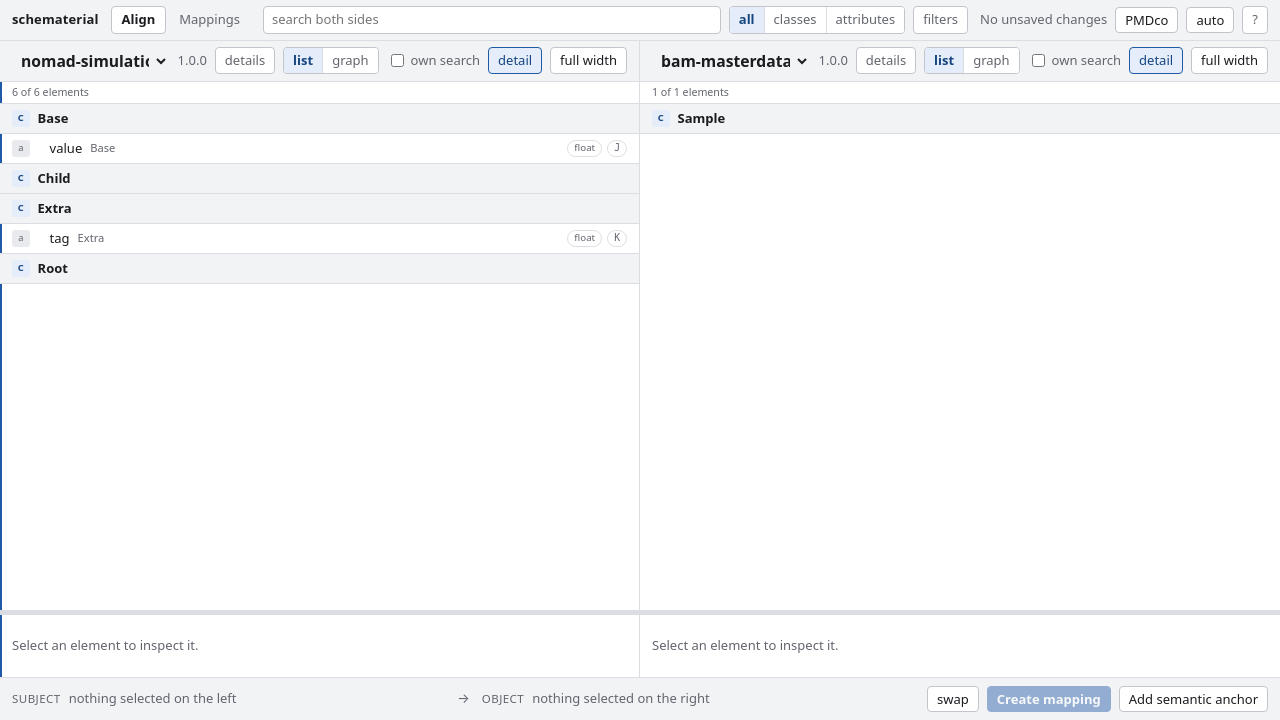
Test: the class graph › selects the same element the list would, and shows it in the detail panel
Expected: the list named "elements of nomad_fixture on the left" is shown, [0, 104, 639, 284]
Click the 1st button "graph".
click(350, 61)  # box [323, 48, 378, 73]
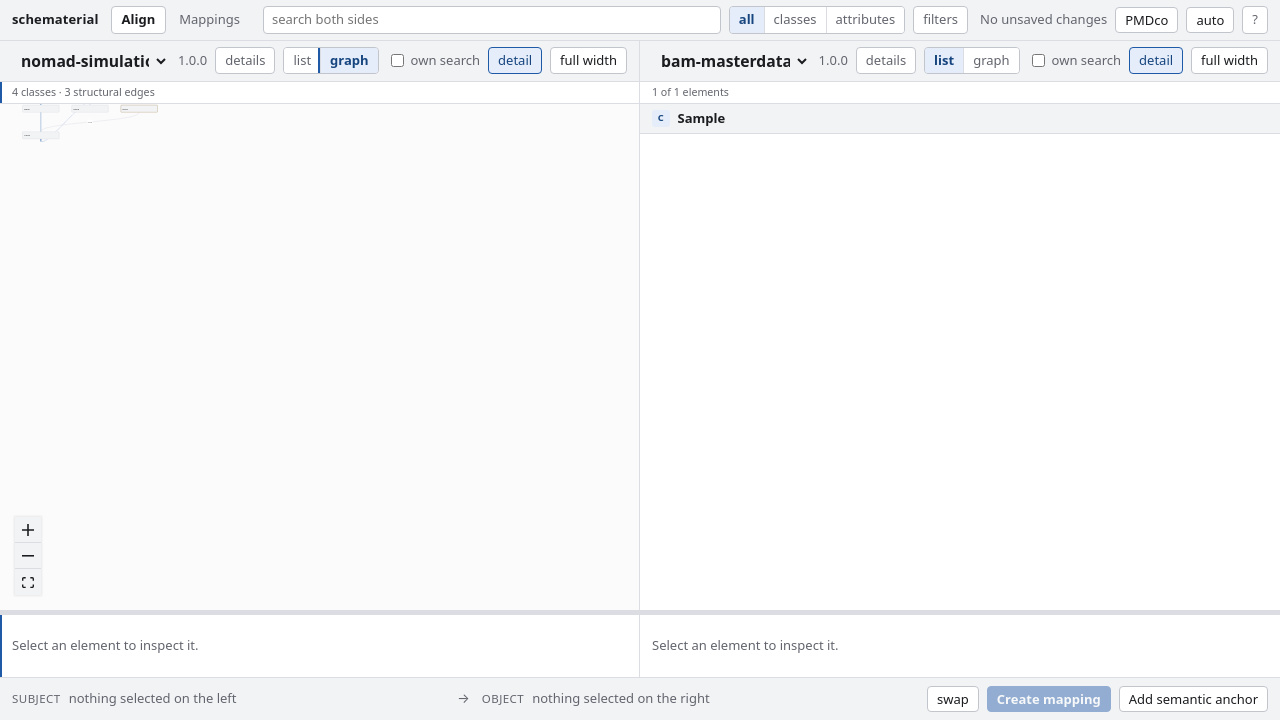
Click the element with class "react-flow__node" showing "Child".
click(41, 136)  # box [22, 132, 59, 140]
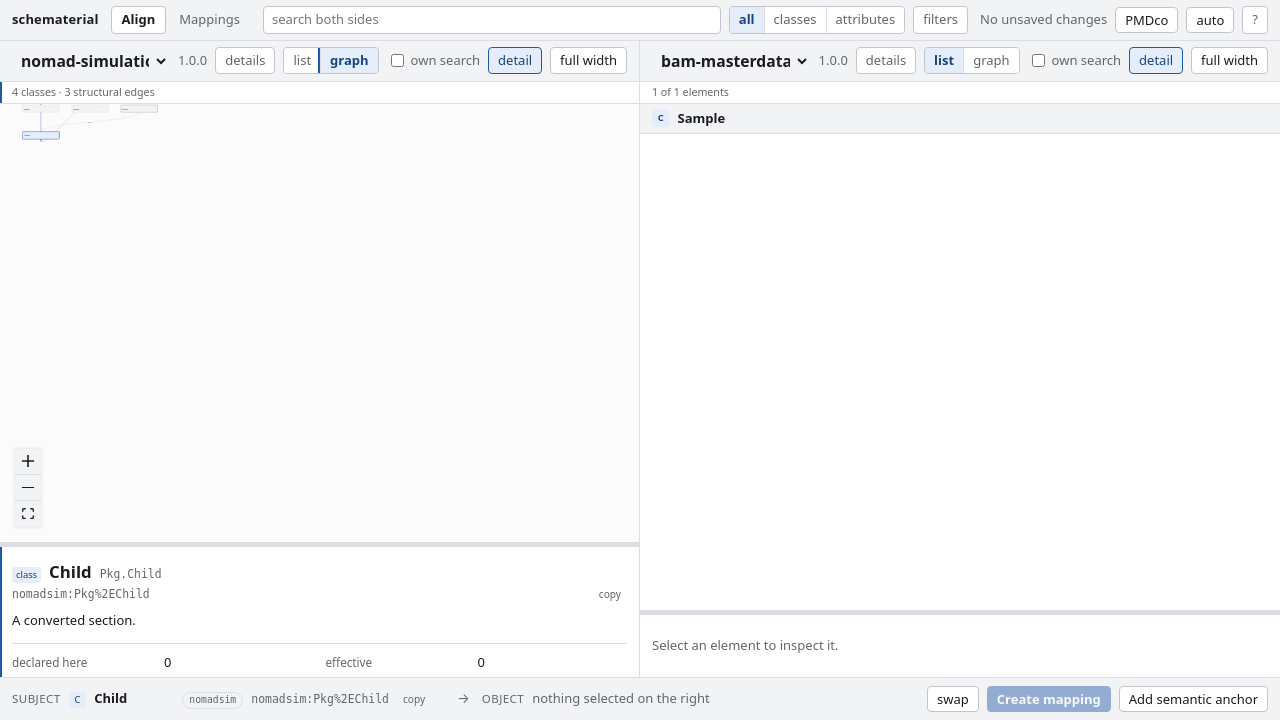
Expected: the text "A converted section." is shown, [12, 611, 136, 629]
Expected: the text with class "identifier" reads "nomadsim:Pkg%2EChild", [12, 587, 150, 601]
Expected: the text "nomadsim:Pkg%2EChild" in the row of "subject" is shown, [251, 692, 389, 706]
